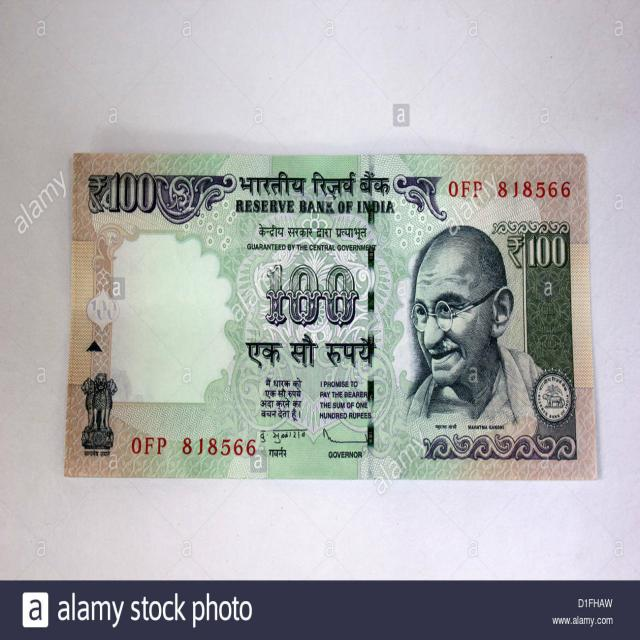100IndianRupees: (72, 156, 587, 476)
